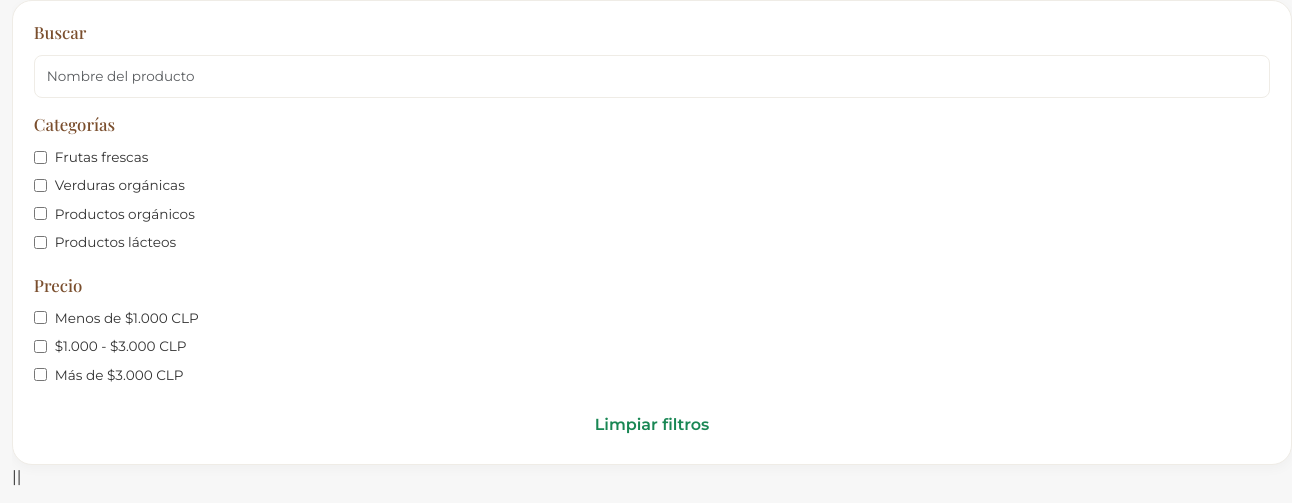
Test: FiltrosCatalogo › actualiza búsqueda, categorías y precios en el padre y los limpia devolviendo el foco al buscador
The width and height of the screenshot is (1292, 503).
Type "manzana" into the field named "Buscar productos". click: (652, 76)
box: [34,55,1270,98]
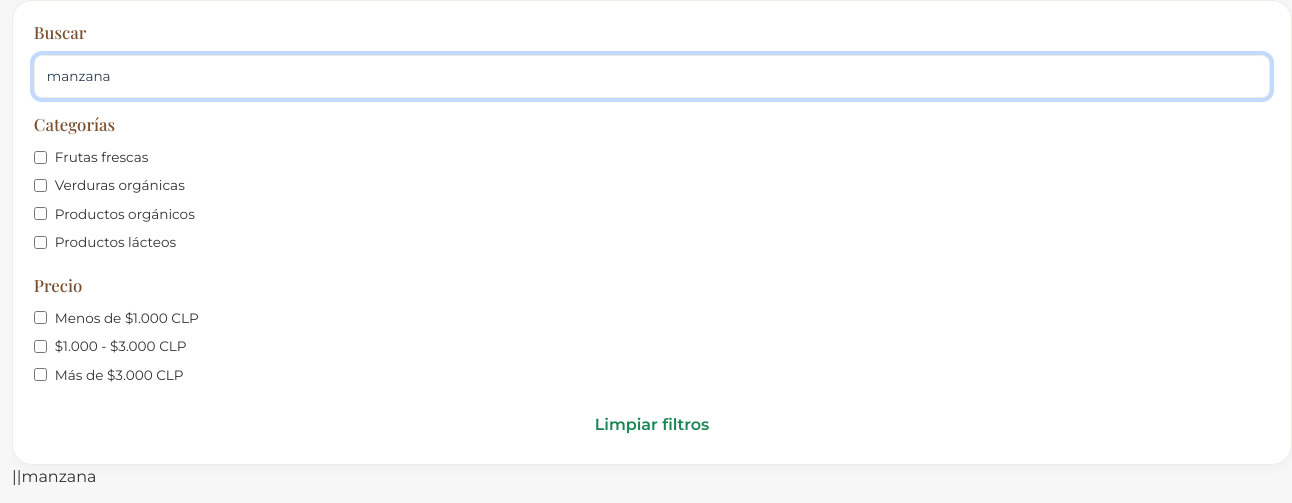
Click the checkbox labelled "Frutas frescas". click: (40, 157)
box: [34,151,47,164]
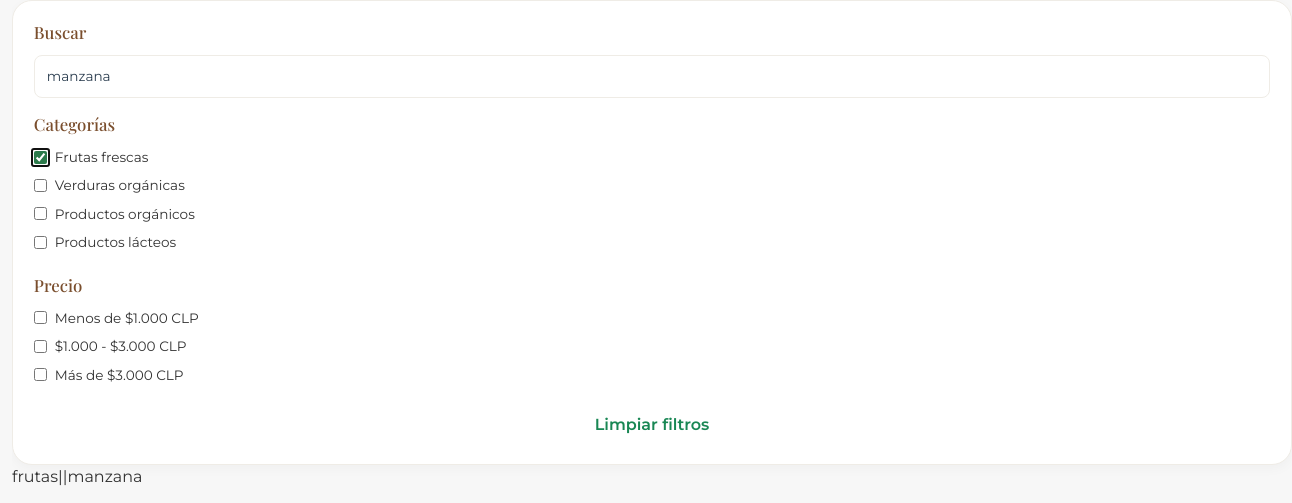
Click the checkbox labelled "Productos lácteos". click: (40, 242)
box: [34,236,47,249]
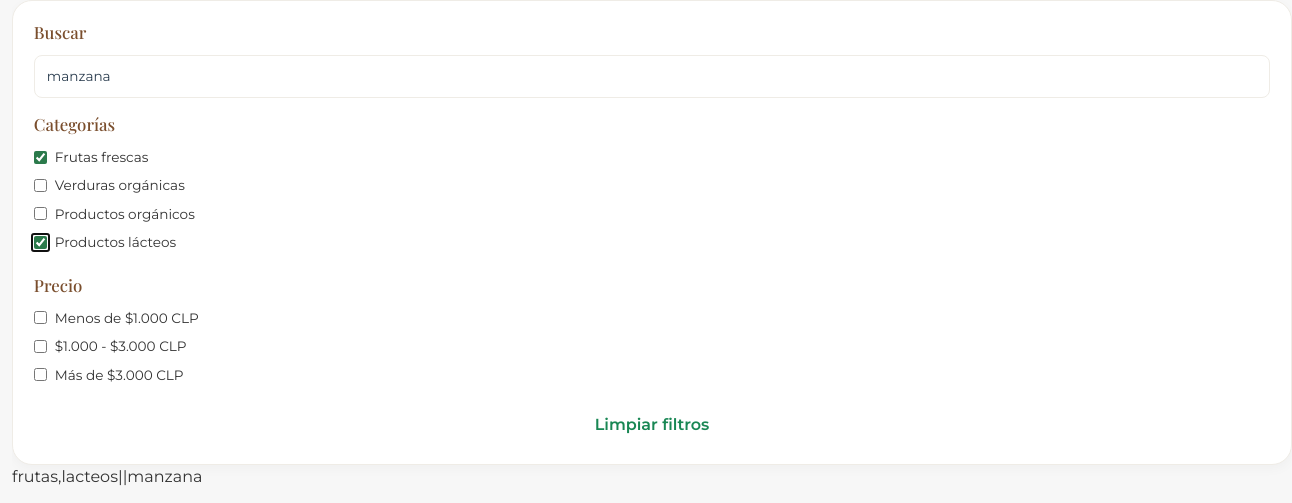
Click the checkbox labelled "Menos de $1.000 CLP". click: (40, 318)
box: [34,312,47,324]
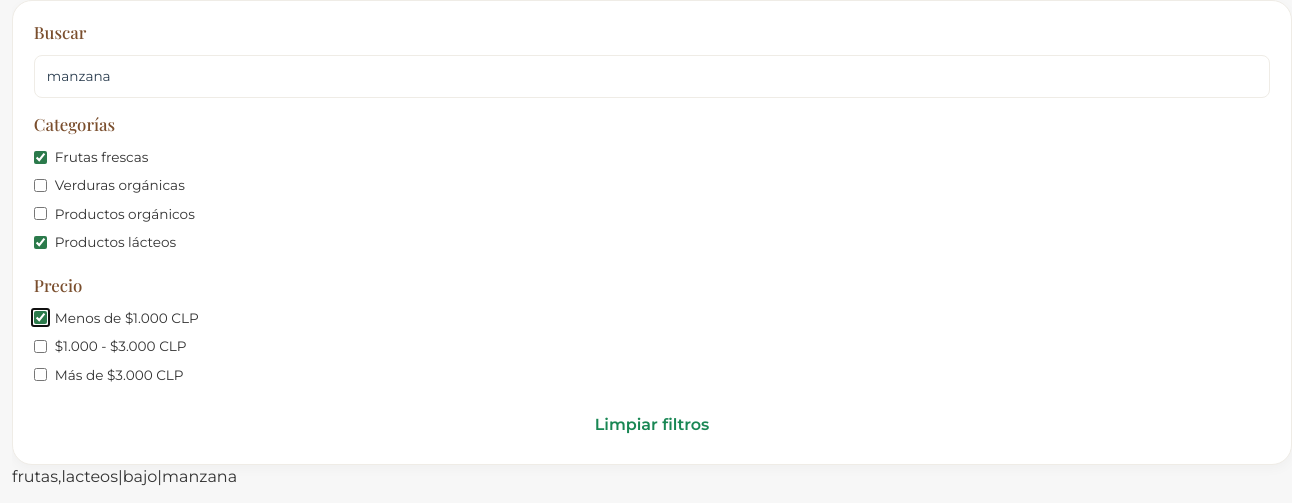
Expected: the text with test id "resumen" reads "frutas,lacteos|bajo|manzana", [12,467,237,486]
Click the checkbox labelled "Frutas frescas". click: (40, 157)
box: [34,151,47,164]
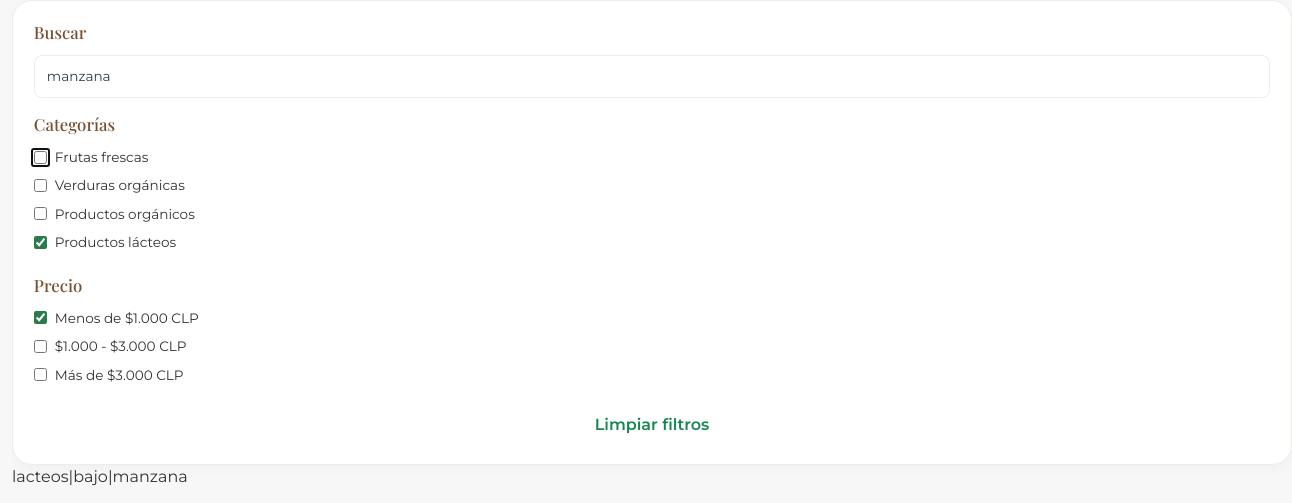
Expected: the text with test id "resumen" reads "lacteos|bajo|manzana", [12,467,188,486]
Click the button "Limpiar filtros". click: (652, 425)
box: [34,407,1270,443]
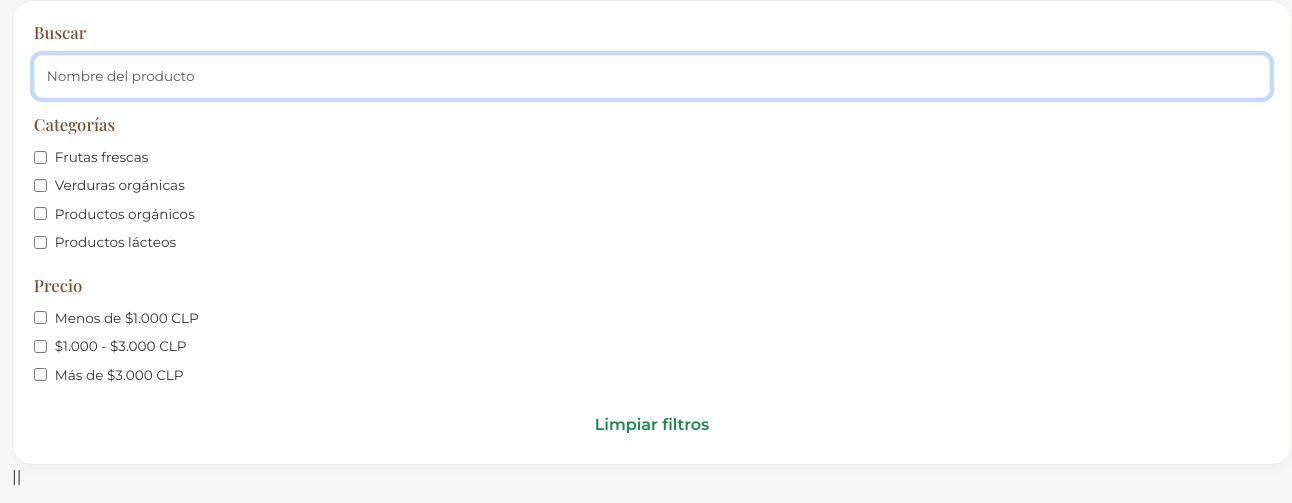
Expected: the field named "Buscar productos" is empty, [34,55,1270,98]
